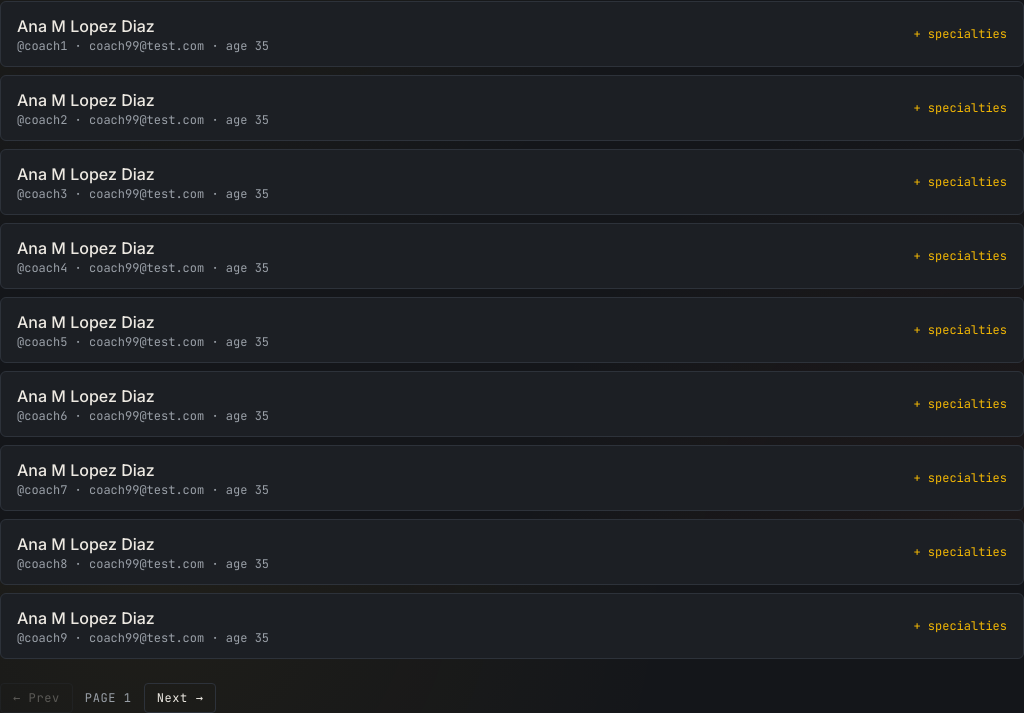
TrainersPage › clicking Next requests the next page, and Prev is disabled on page 1
The width and height of the screenshot is (1024, 713).
(page scrolled)
Check: the text "Page 1" is shown, box x1=85 y1=690 x2=132 y2=706
Check: the button "← Prev" is disabled, box x1=0 y1=683 x2=73 y2=712
Click the button "Next →" at coordinates (180, 698), box x1=144 y1=683 x2=216 y2=712
(page scrolled)
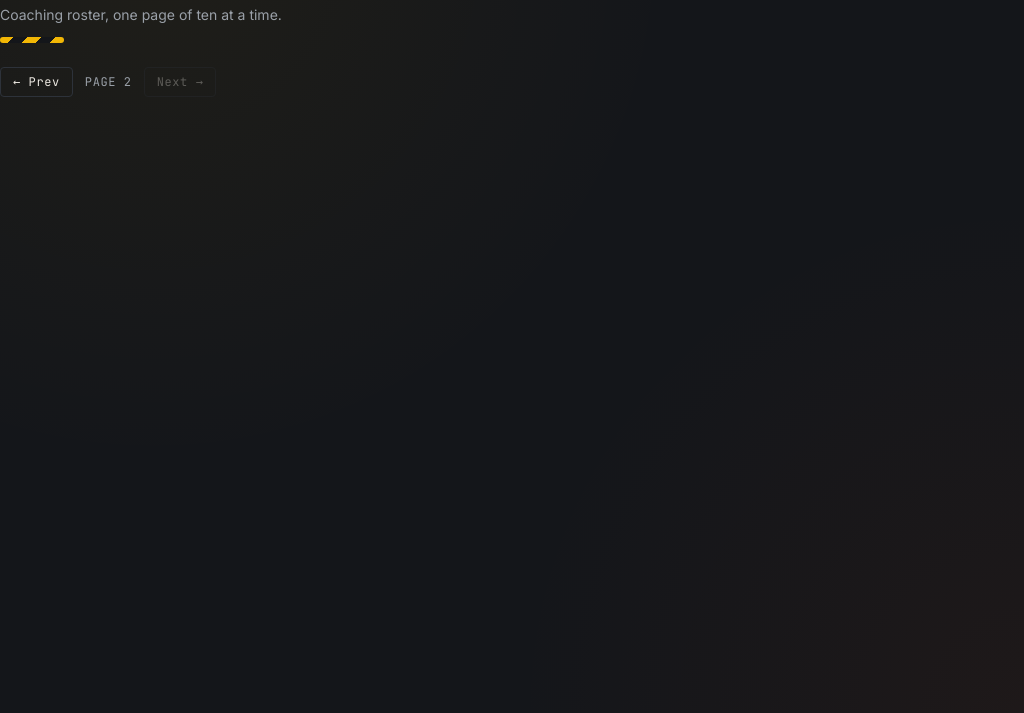
Check: the text "Page 2" is shown, box x1=85 y1=74 x2=132 y2=90
